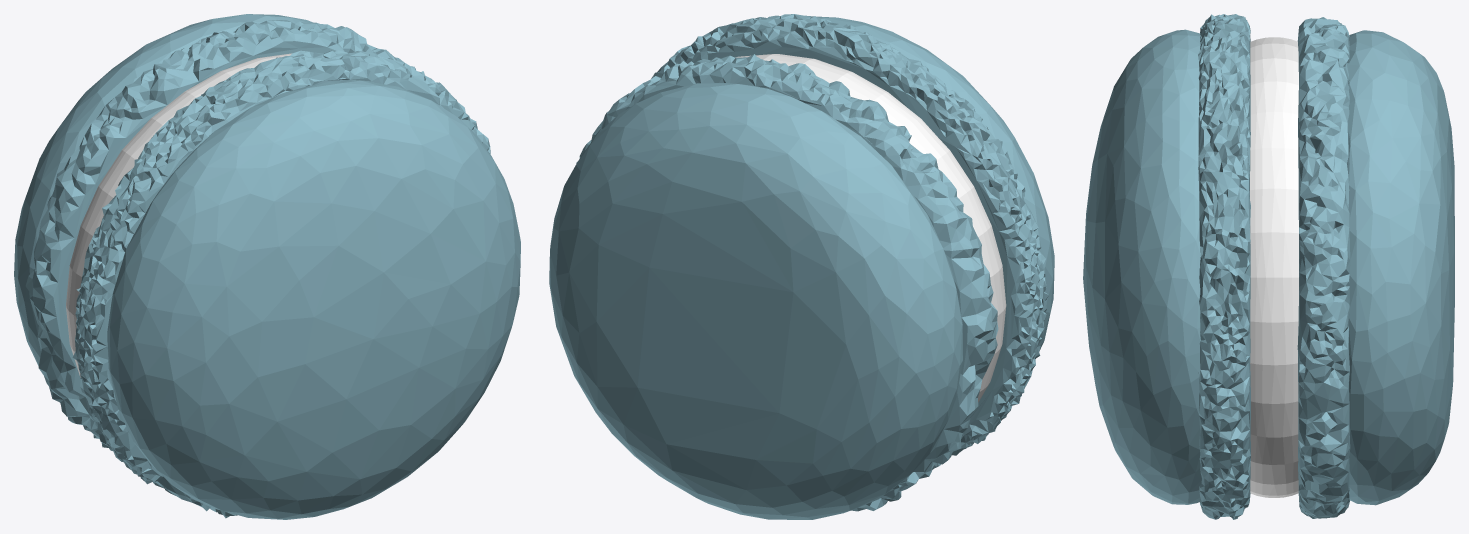
File: macaroon_B.glb
3 views of the same model, side by side, from view 1: azimuth 30°, elevation 25°; view 2: azimuth 150°, elevation 25°; view 3: azimuth 270°, elevation 25° (orthographic). The views are drawn at different scales.
Visible parts, largest first — view 1: Cube.001, Cube.002, Cube.652; view 2: Cube.001, Cube.002, Cube.652; view 3: Cube.001, Cube.002, Cube.652.
Boxes of the visible parts, x1,y1,x2,y2 form: Cube.001: [14, 14, 520, 519]; Cube.002: [25, 20, 490, 518]; Cube.652: [66, 53, 291, 377]; Cube.001: [549, 16, 1054, 519]; Cube.002: [576, 14, 1048, 511]; Cube.652: [735, 54, 1006, 402]; Cube.001: [1083, 29, 1454, 505]; Cube.002: [1198, 14, 1350, 519]; Cube.652: [1250, 37, 1298, 497].
Bounding box in the file's own units: 15.71 × 15.86 × 11.55.
